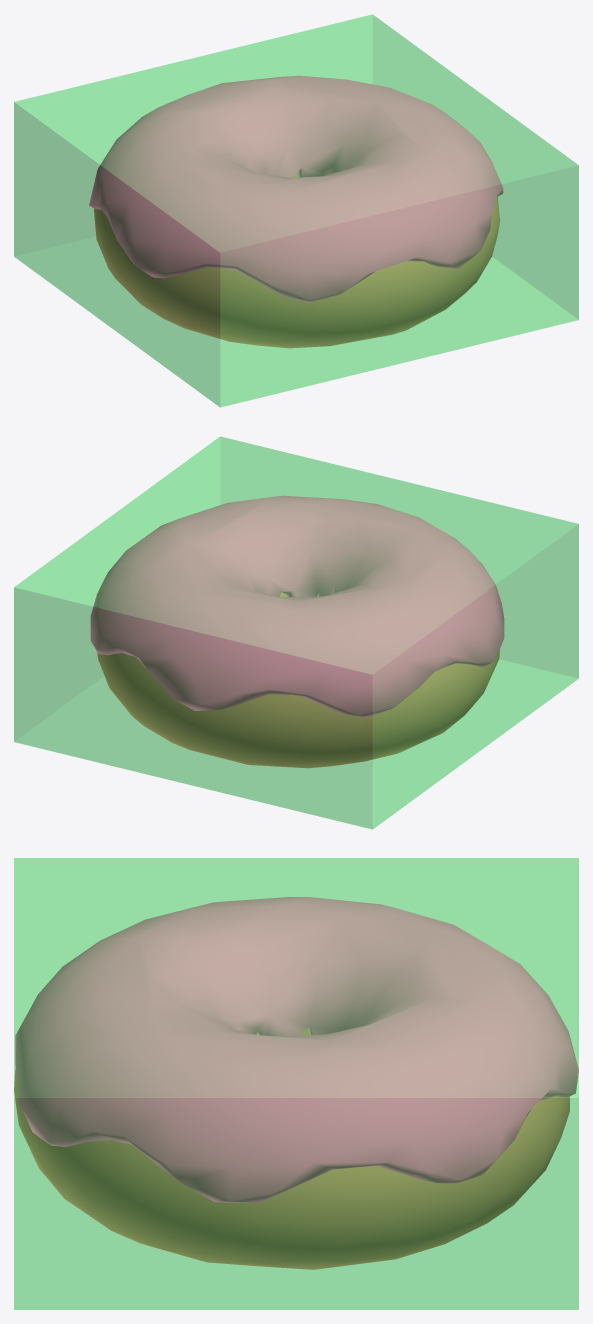
Rendered from Piece_06_Donut.fbx.
3 views of the same model, one above another, from view 1: azimuth 30°, elevation 25°; view 2: azimuth 150°, elevation 25°; view 3: azimuth 270°, elevation 25° (orthographic). The views are drawn at different scales.
Parts seen in each view (by area): view 1: COL_Piece_06, Piece_06_Donut; view 2: COL_Piece_06, Piece_06_Donut; view 3: COL_Piece_06, Piece_06_Donut.
Part boxes in pixels (<box>): COL_Piece_06: <box>14,14,578,407</box>; Piece_06_Donut: <box>89,75,503,348</box>; COL_Piece_06: <box>14,436,578,829</box>; Piece_06_Donut: <box>90,495,504,768</box>; COL_Piece_06: <box>14,858,578,1309</box>; Piece_06_Donut: <box>14,897,578,1269</box>.
Size of the model in its own units: 0.0427 by 0.0176 by 0.0425.
